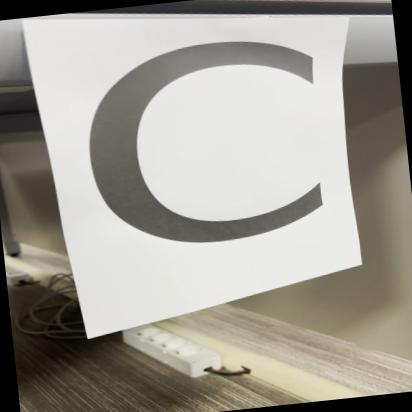seat: (21, 0, 360, 293)
